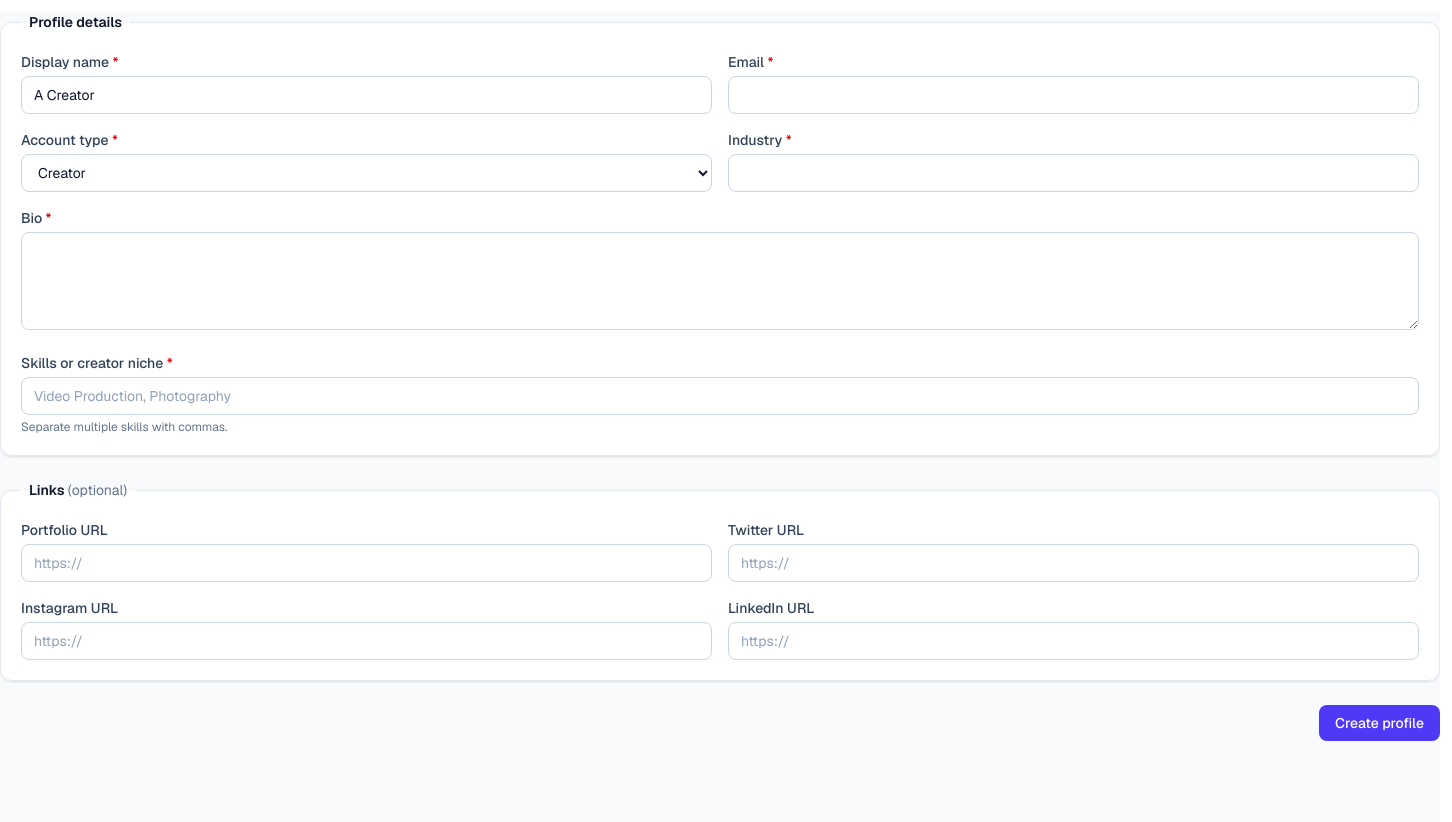
Test: ProfileForm validation › shows a field level error when the email is invalid
The width and height of the screenshot is (1452, 822).
Type "not-an-email" into the field labelled "Email *" at {"x": 1074, "y": 95}, box [728,76,1419,114]
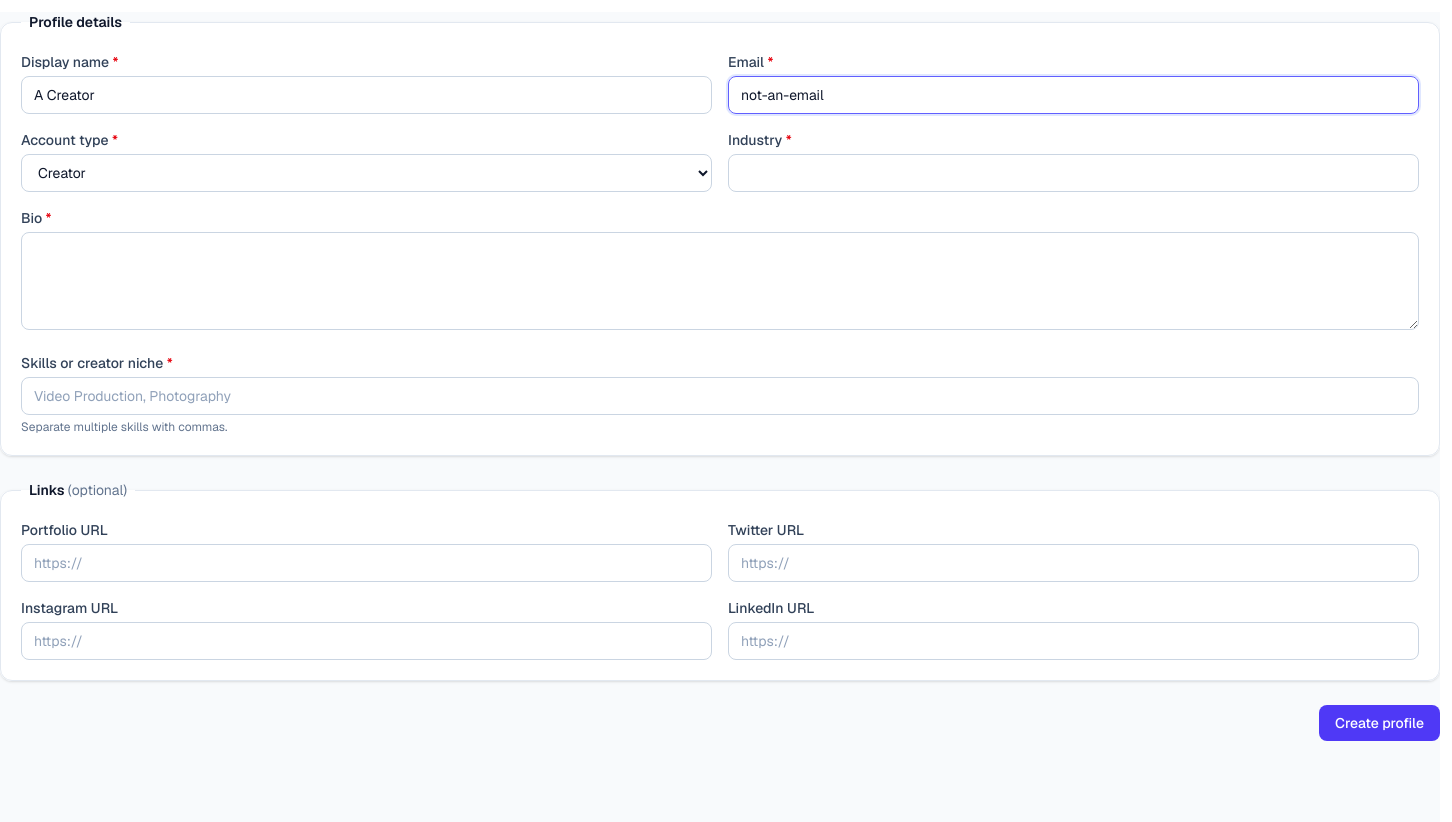
Click the button "Create profile" at {"x": 1380, "y": 723}, box [1319,705,1440,741]
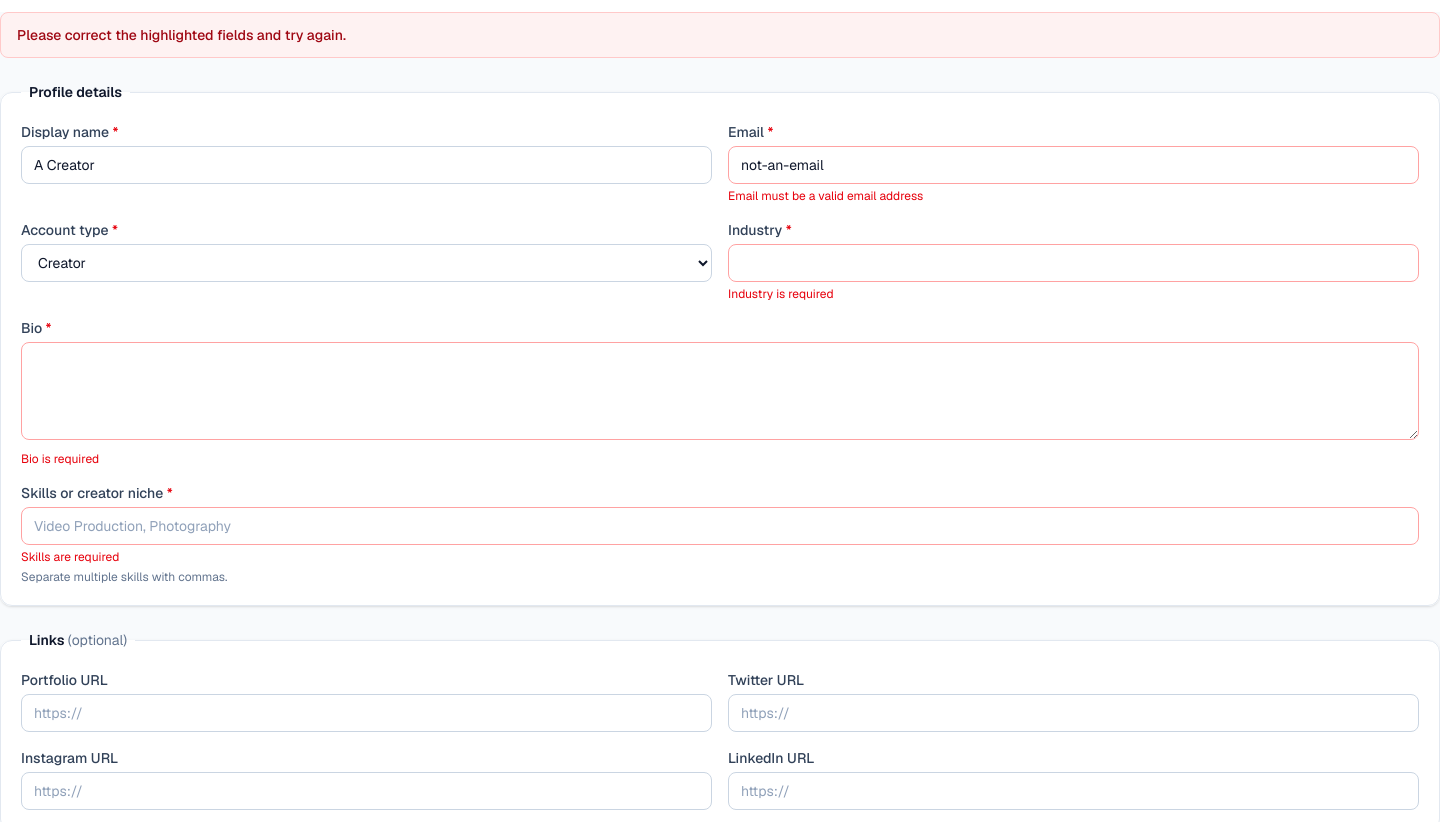
Check: the text "Email must be a valid email address" is shown, box [728,188,923,204]
